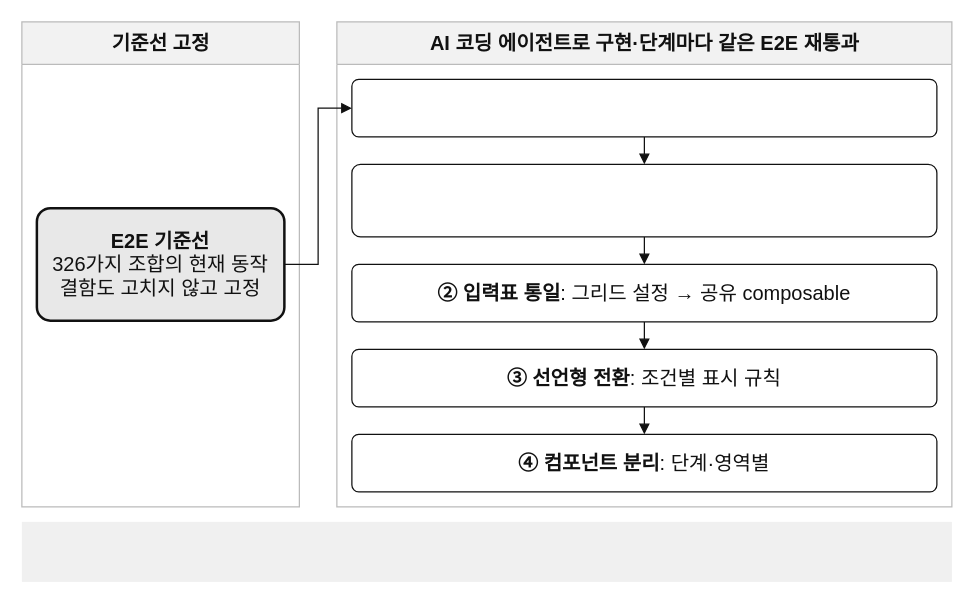
Some shapes in this 974 by 604 pixel diagram are drawn without their labels. Each missing label, with the centre of its shape:
"① 규칙 통합 : 두 화면 → 순수 함수 모듈 한 곳 (화면별 분기 유지)" belongs at point 644,200.
"결과: 정산 규칙 정의 두 곳 → 한 곳·네 단계 후에도 같은 E2E 통과·백엔드 mock 기반 화면 검증·CI 상시 실행 아님" belongs at point 486,551.
"일괄등록 코드 제거 : 화면에서 도달할 수 없던 경로" belongs at point 644,107.
